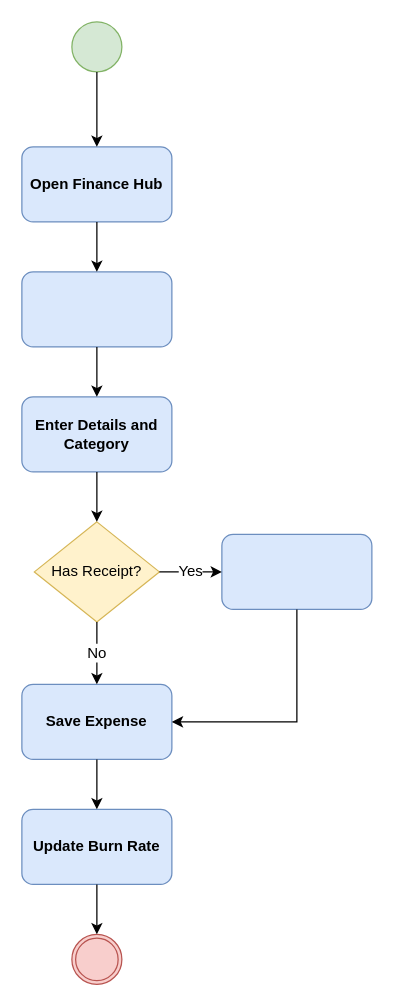
Some shapes in this 394 by 1006 pixel diagram are drawn without their labels. The shapes that lost their labels are listed below. From the top down, each one's centre as x and y in pixels, then its label:
At point (96, 309): "Click Add Expense".
At point (296, 571): "Upload Receipt".
